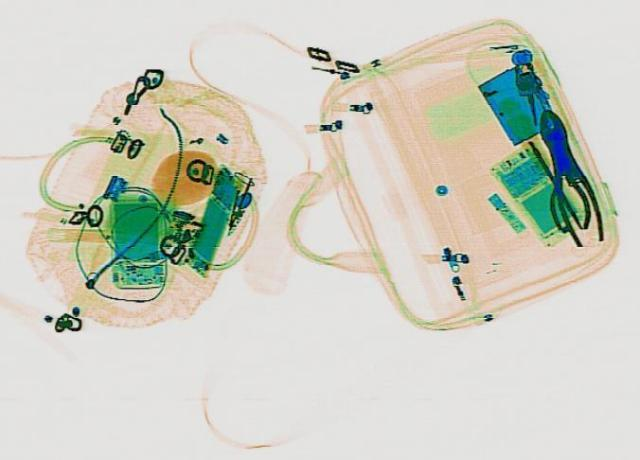Pliers: (525, 106, 607, 244), (538, 142, 592, 229)
